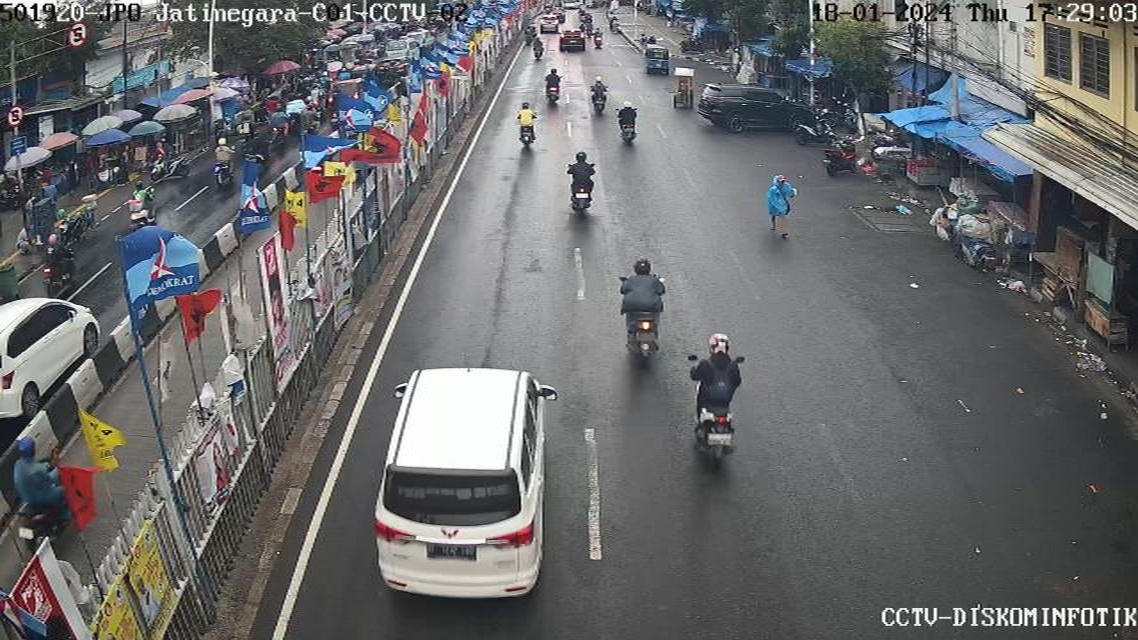Gerobak: (672, 61, 699, 111)
